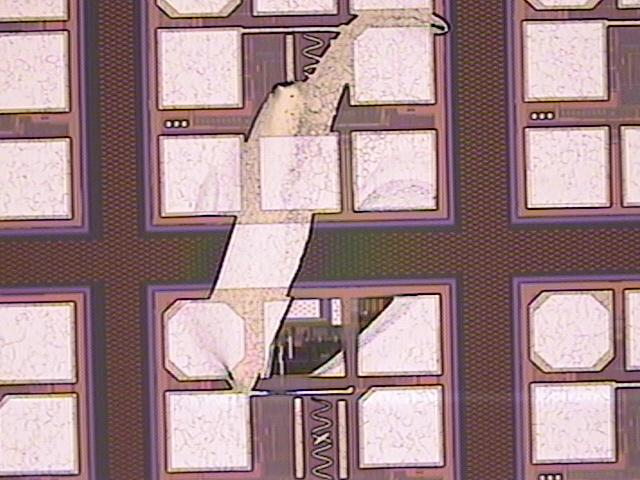BLOCK ETCH: (164, 3, 460, 404)
